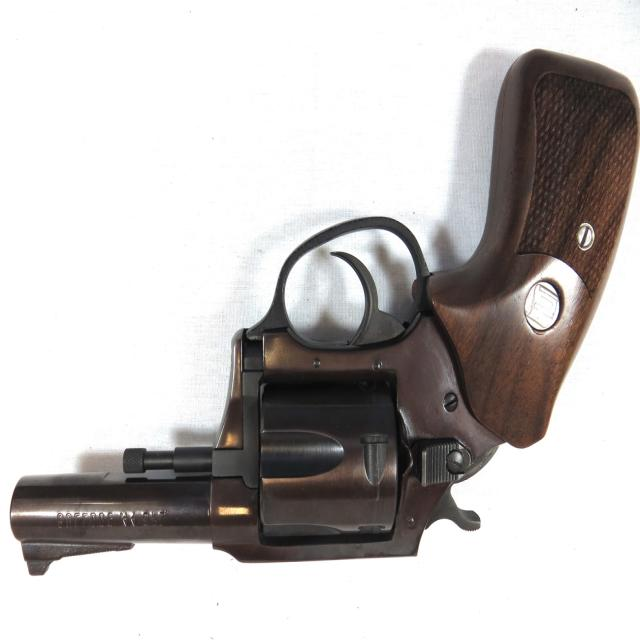Gun: (2, 44, 640, 606)
